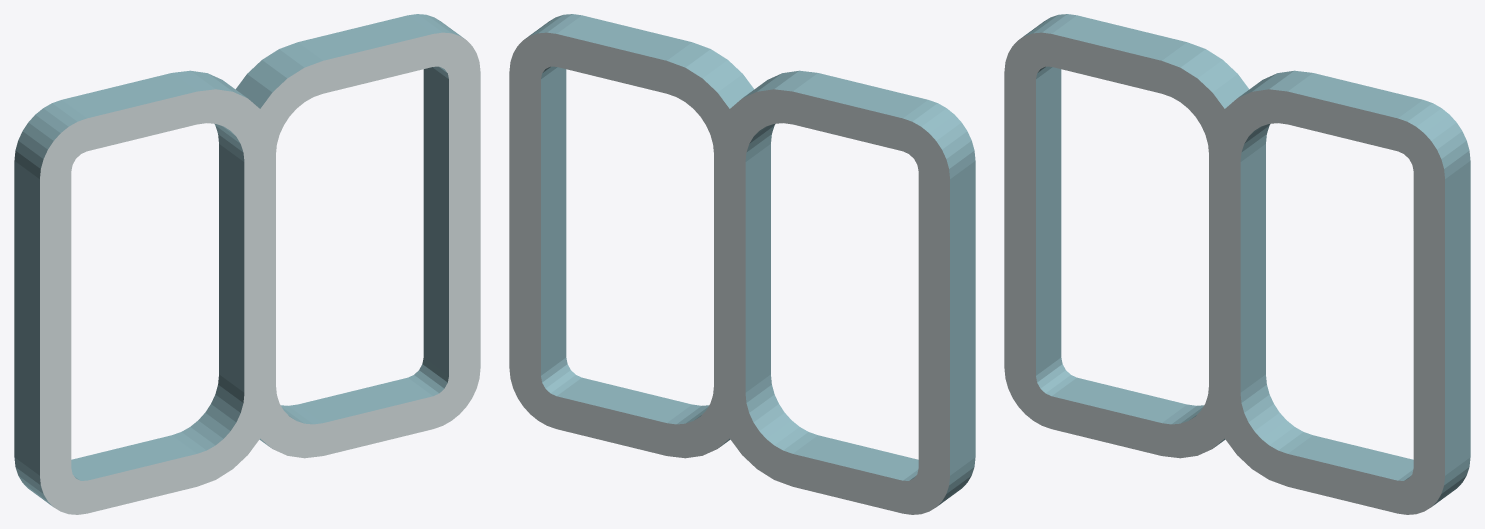
The model's file is codicon_book_v01.glb.
3 views of the same model, side by side, from view 1: azimuth 30°, elevation 25°; view 2: azimuth 150°, elevation 25°; view 3: azimuth 330°, elevation 25° (orthographic).
Parts seen in each view (by area): view 1: codicon_book; view 2: codicon_book; view 3: codicon_book.
Boxes of the visible parts, x1,y1,x2,y2 form: codicon_book: [14, 14, 480, 514]; codicon_book: [509, 14, 975, 514]; codicon_book: [1004, 14, 1470, 514].
Bounding box in the file's own units: 0.6 × 0.5143 × 0.06.
Materials: 1 (1 with a texture image).
